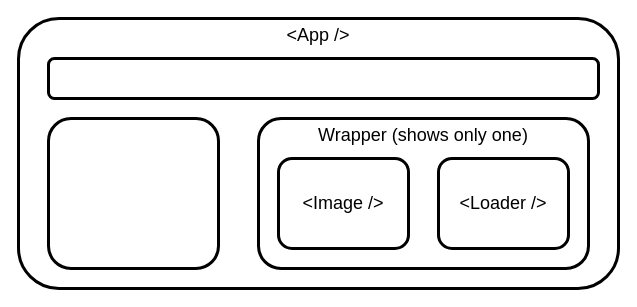
This 637x307 diagram has some shape labels left out. The shapes that lost their labels are listed below. From the top down, each one's centre as x and y in pixels, then its label:
point 323,78: <Header />
point 133,193: <Selector />
